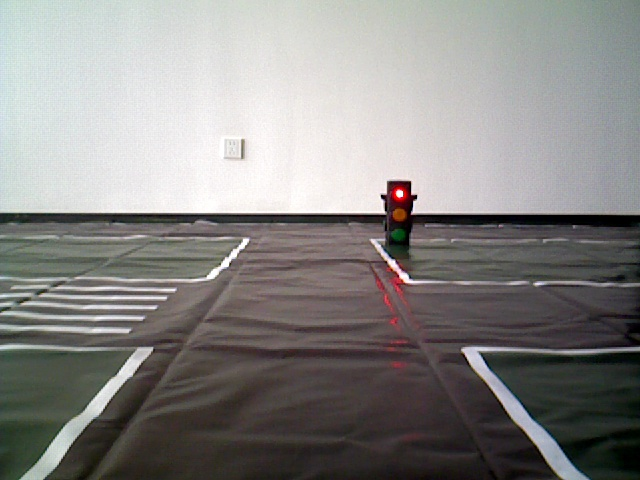red: (385, 182, 410, 246)
